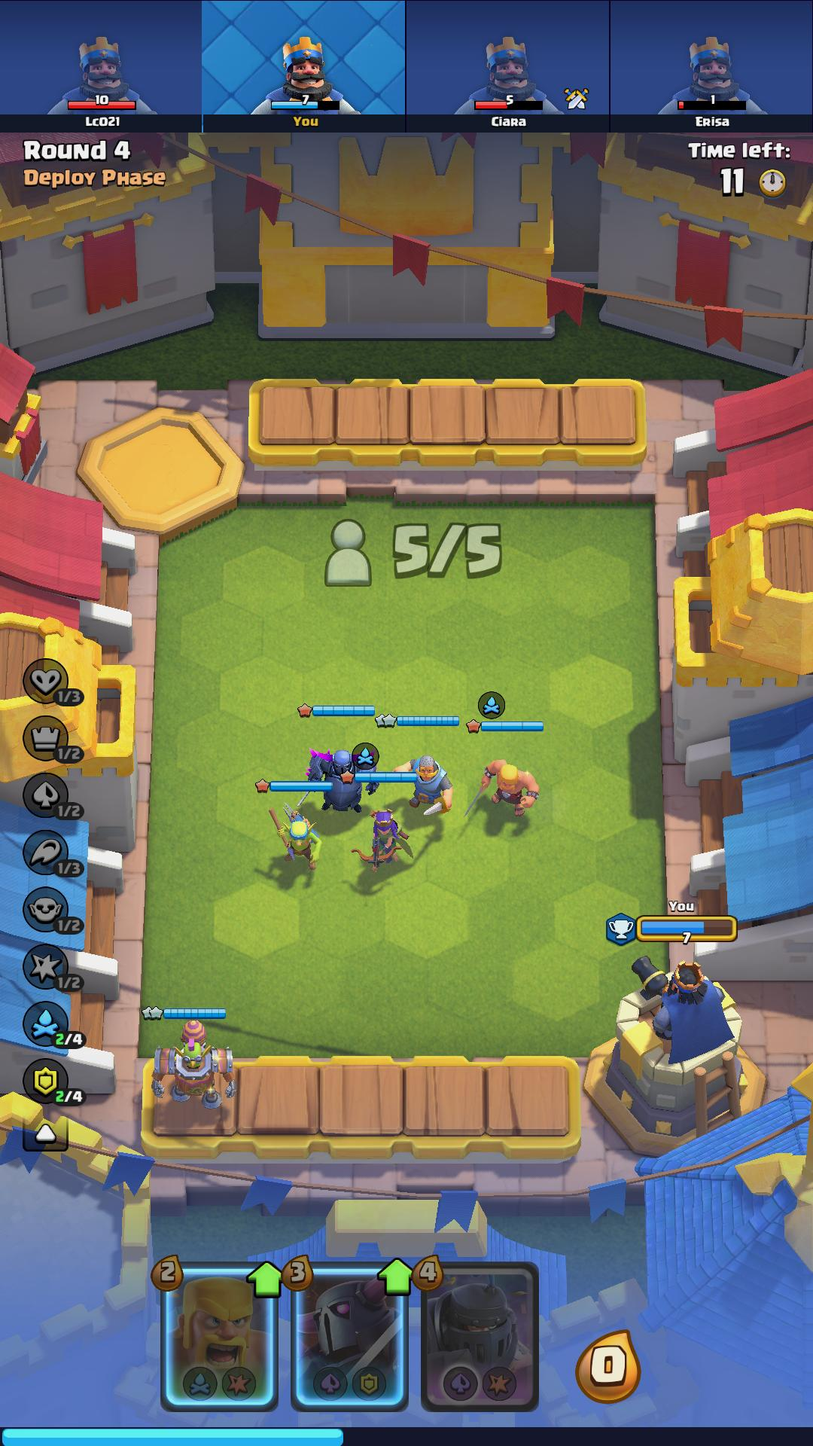barbarian: (476, 746, 543, 826)
hand-barbarian: (167, 1267, 274, 1406)
hand-mega: (420, 1263, 538, 1406)
hand-pekka: (299, 1268, 403, 1406)
knight: (388, 739, 464, 826)
machine: (143, 1020, 240, 1117)
pekka: (294, 737, 376, 813)
queen: (348, 801, 417, 884)
spear: (251, 806, 326, 872)
upgrade: (246, 1258, 287, 1300), (379, 1251, 415, 1298)
